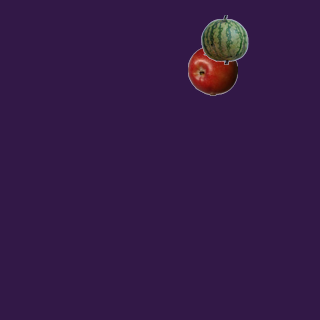Apple Braeburn: (187, 45, 237, 95)
Watermelon: (199, 14, 249, 64)
